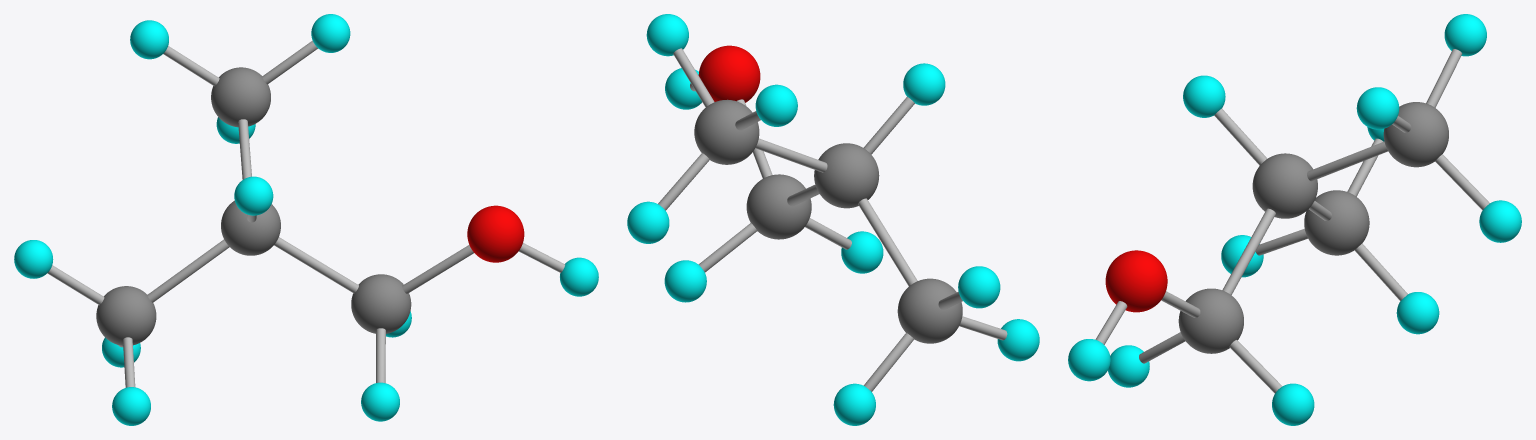
File: 2-methyl 1-propanol.glb
3 views of the same model, side by side, from view 1: azimuth 30°, elevation 25°; view 2: azimuth 150°, elevation 25°; view 3: azimuth 270°, elevation 25° (orthographic). The views are drawn at different scales.
Parts seen in each view (by area): view 1: CMAtom_0, CMAtom_2, CMAtom_3, CMAtom_4, CMAtom_1, CMAtom_14, CMAtom_7, CMAtom_13, CMAtom_11, CMAtom_9, CMAtom_8, CMAtom_5 (+9 smaller); view 2: CMAtom_1, CMAtom_0, CMAtom_3, CMAtom_2, CMAtom_4, CMAtom_9, CMAtom_6, CMAtom_10, CMAtom_13, CMAtom_14, CMAtom_12, CMAtom_11 (+12 smaller); view 3: CMAtom_1, CMAtom_0, CMAtom_3, CMAtom_2, CMAtom_4, CMAtom_12, CMAtom_11, CMAtom_5, CMAtom_6, CMAtom_10, CMAtom_14, CMAtom_13 (+14 smaller).
Part boxes in pixels (x1,y1,x2,y2): CMAtom_0: (351, 274, 411, 333); CMAtom_2: (211, 67, 270, 127); CMAtom_3: (96, 286, 156, 345); CMAtom_4: (467, 205, 524, 262); CMAtom_1: (221, 200, 280, 255); CMAtom_14: (234, 176, 273, 215); CMAtom_7: (361, 382, 399, 421); CMAtom_13: (130, 20, 168, 59); CMAtom_11: (311, 14, 350, 52); CMAtom_9: (14, 240, 53, 278); CMAtom_8: (112, 387, 150, 425); CMAtom_5: (560, 257, 598, 296); CMAtom_1: (814, 143, 879, 208); CMAtom_0: (746, 174, 811, 239); CMAtom_3: (897, 278, 962, 343); CMAtom_2: (694, 99, 759, 164); CMAtom_4: (698, 45, 760, 102); CMAtom_9: (958, 266, 1000, 308); CMAtom_6: (664, 260, 706, 302); CMAtom_10: (833, 383, 875, 425); CMAtom_13: (755, 84, 797, 126); CMAtom_14: (903, 63, 945, 105); CMAtom_12: (627, 201, 669, 243); CMAtom_11: (646, 14, 688, 56); CMAtom_1: (1252, 153, 1317, 218); CMAtom_0: (1178, 288, 1243, 353); CMAtom_3: (1304, 190, 1369, 255); CMAtom_2: (1383, 102, 1448, 167); CMAtom_4: (1105, 250, 1167, 312); CMAtom_12: (1479, 200, 1521, 242); CMAtom_11: (1356, 87, 1399, 129); CMAtom_5: (1068, 339, 1110, 381); CMAtom_6: (1272, 383, 1314, 425); CMAtom_10: (1396, 292, 1439, 334); CMAtom_14: (1183, 75, 1225, 117); CMAtom_13: (1444, 14, 1486, 56).
Bounding box in the file's own units: 5.23 × 3.58 × 4.27.
